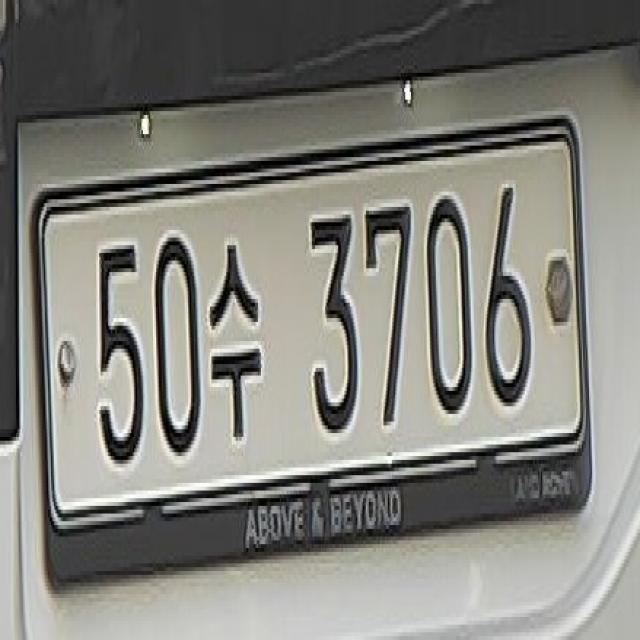0: (427, 182, 478, 432), (154, 222, 203, 472)
3: (302, 202, 362, 458)
5: (89, 238, 146, 483)
6: (482, 171, 540, 421)
7: (365, 191, 415, 437)
license_plate: (31, 106, 599, 597)
su: (208, 216, 267, 451)
